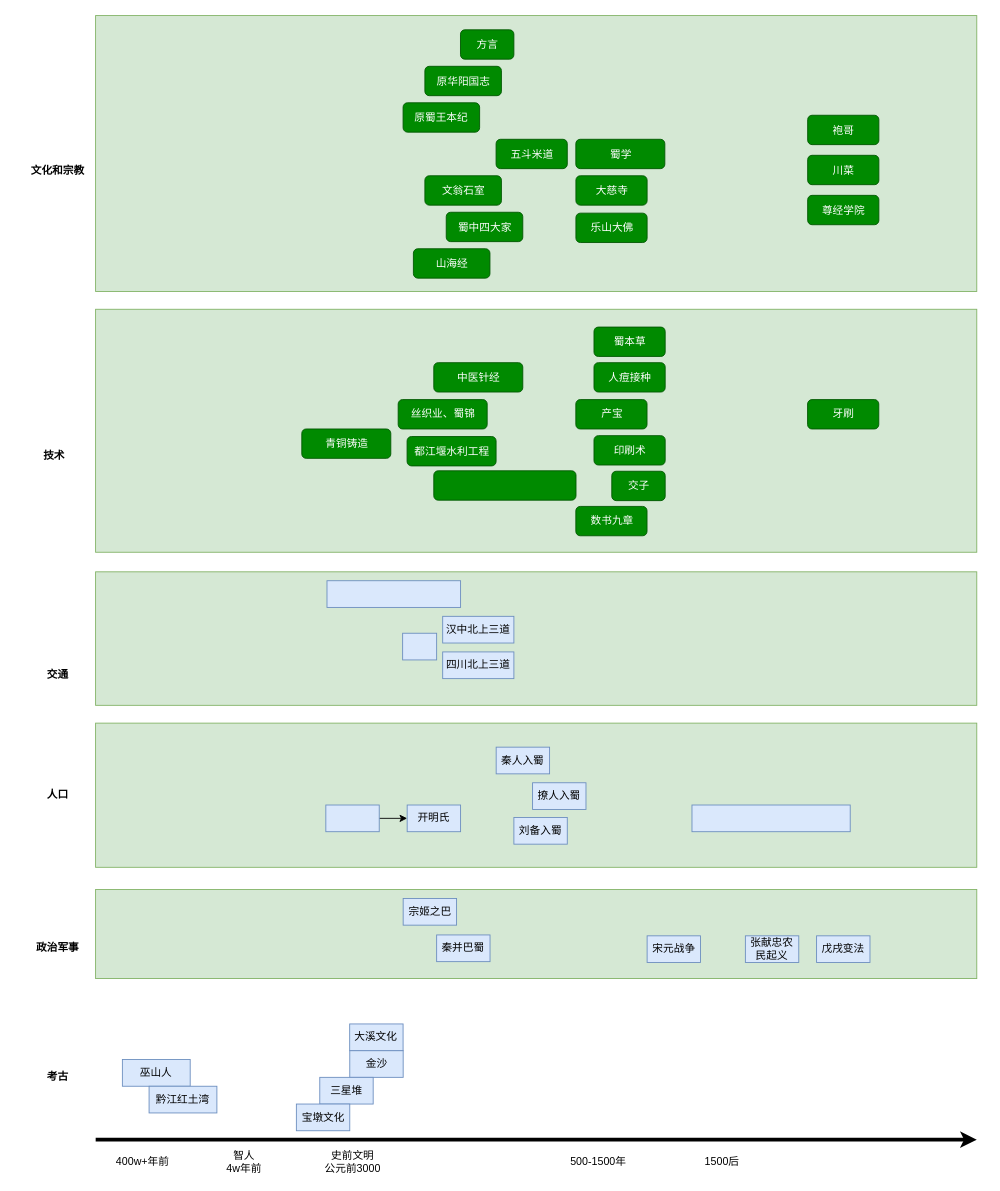
The diagram is 1000 pixels wide and 1191 high, and some of its shapes have lost their labels. The shapes that lost their labels are listed below. From the top down, each one's box as (x1, y1, x2, y2) in pixels, then its label:
(433, 470, 576, 500): 井盐、 天然气开采
(326, 580, 461, 607): 航运
(402, 632, 437, 660): 栈道
(325, 804, 379, 832): 蚕丛氏
(691, 804, 850, 832): 湖广填四川
